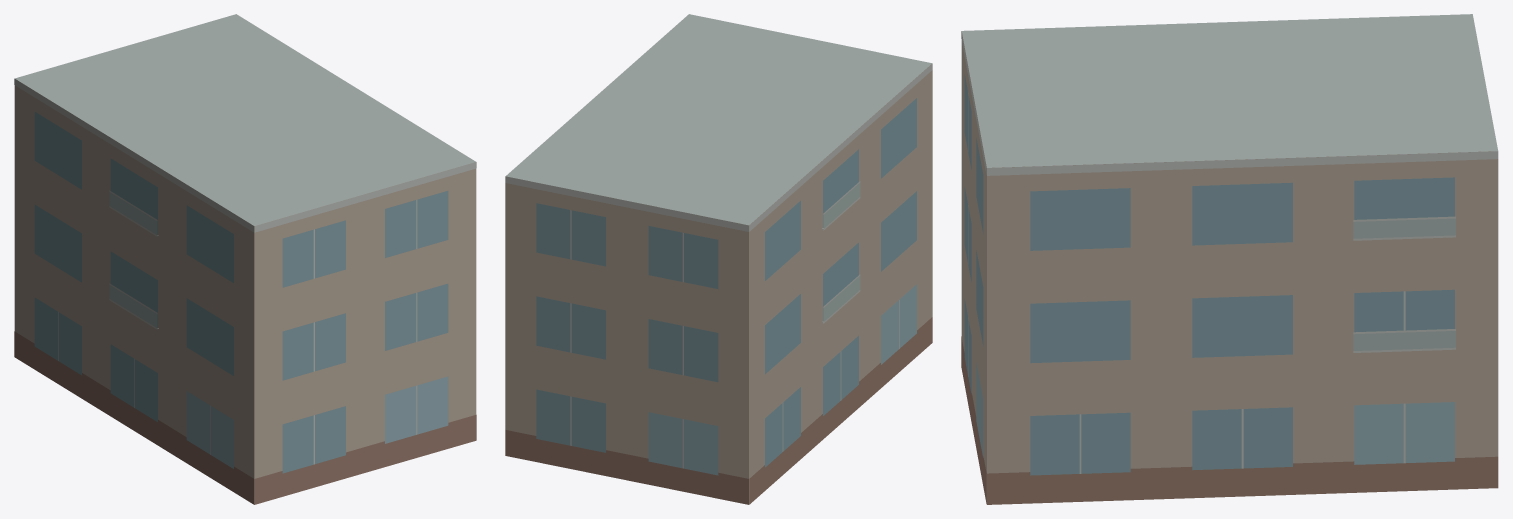
The model's file is survey-upis-32912727.glb.
3 renders of one model, left to right at view 1: azimuth 30°, elevation 25°; view 2: azimuth 150°, elevation 25°; view 3: azimuth 270°, elevation 25°, orthographic. The views are drawn at different scales.
Visible parts, largest first — view 1: survey-upis-32912727.tmp; view 2: survey-upis-32912727.tmp; view 3: survey-upis-32912727.tmp.
Part boxes in pixels (box(x1,y1,x2,y2)): survey-upis-32912727.tmp: box(14, 14, 476, 504); survey-upis-32912727.tmp: box(505, 14, 932, 504); survey-upis-32912727.tmp: box(961, 14, 1498, 504).
Size of the model in its own units: 10.1 by 10.3 by 14.88.
